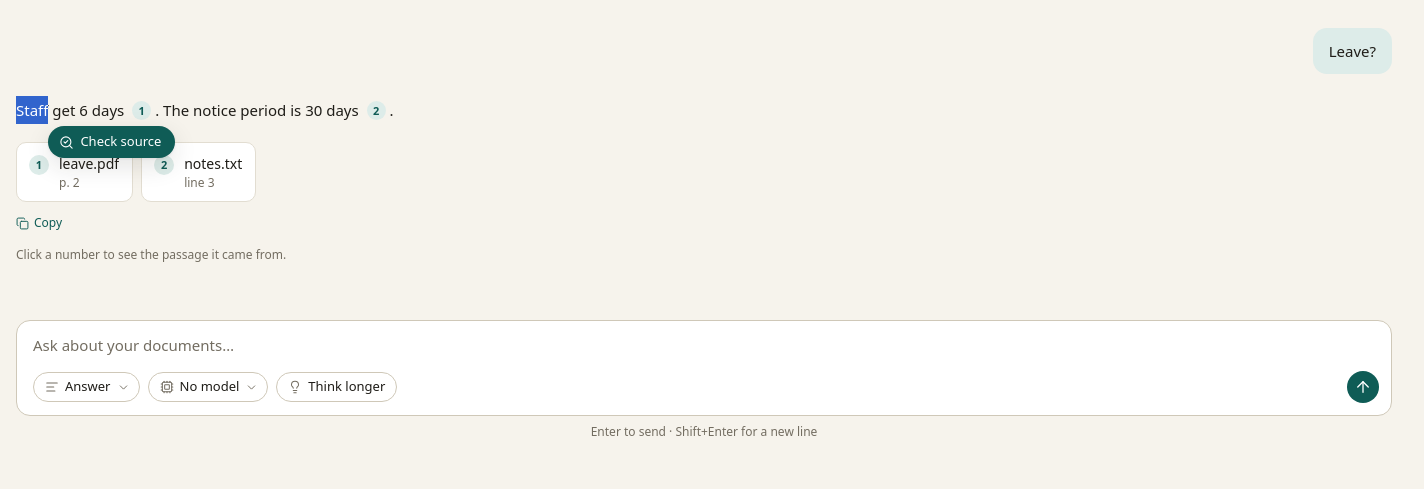
Test: checking a source from an answer › marks the checked span in the answer until the panel closes
Step 1. Click the button "Check source" → (112, 142), box top-left (48, 126), bottom-right (175, 158)
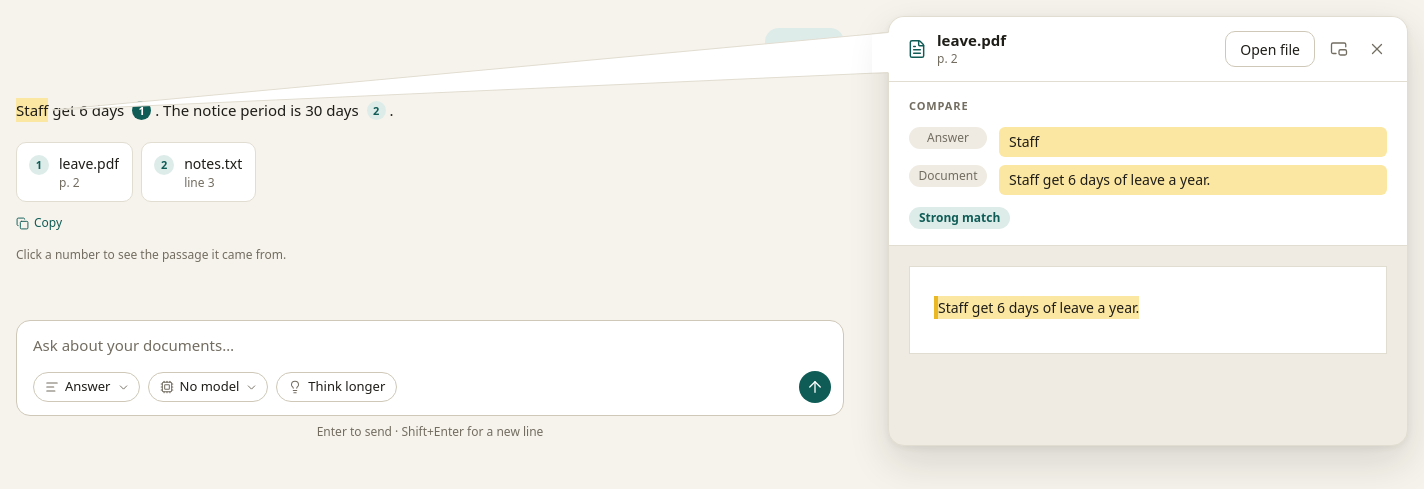
Expected: the text with class "answer-hit" reads "Staff", top-left (16, 100), bottom-right (48, 120)
Expected: the element with class "answer-text" reads "Staff get 6 days 1 . The notice period is 30 days 2 .", top-left (16, 98), bottom-right (394, 122)
Step 2. Click the button named "Close source" → (1377, 49), box top-left (1363, 35), bottom-right (1391, 63)
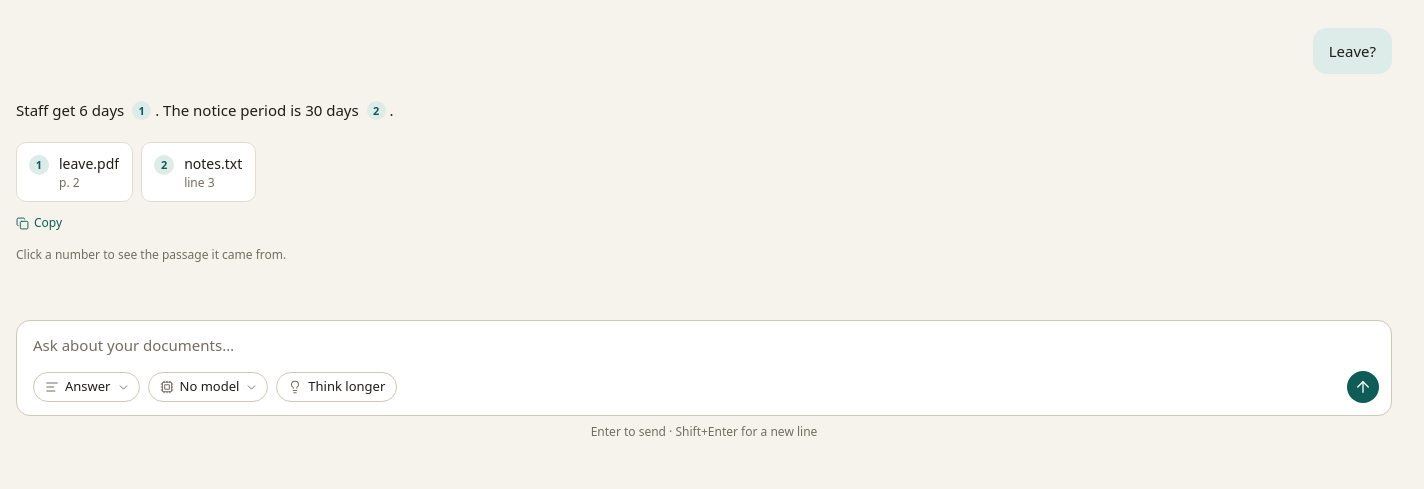
Expected: the element with class "source-panel" is gone
